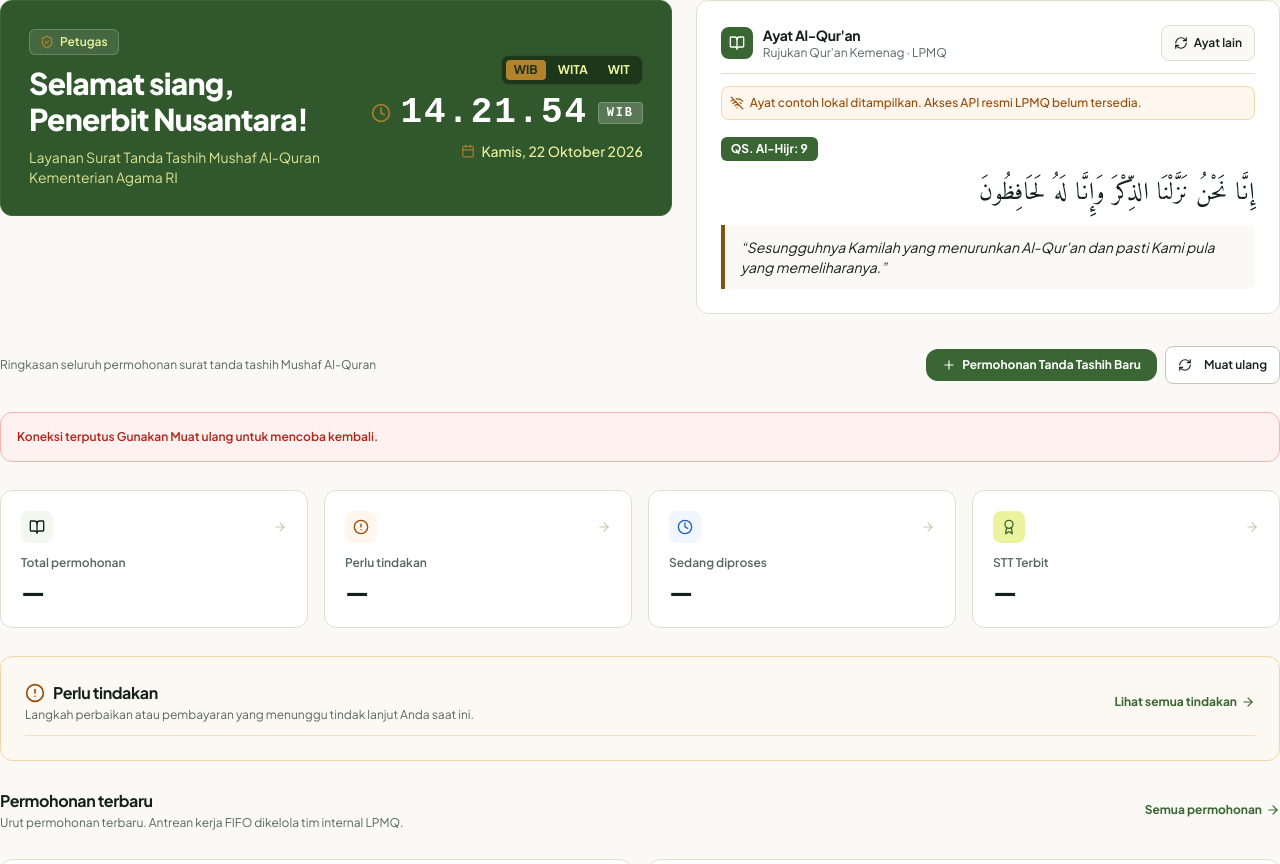
Publisher dashboard › shows a fetch failure without misleading zeros and retries
This screenshot has width=1280, height=864.
Check: the message "Koneksi terputus Gunakan Muat ulang untuk mencoba kembali." is shown, box left=0, top=412, right=1279, bottom=462
Check: the link "Total permohonan —" is shown, box left=0, top=490, right=308, bottom=628
Click the button "Muat ulang" at (1222, 365), box left=1165, top=346, right=1279, bottom=384
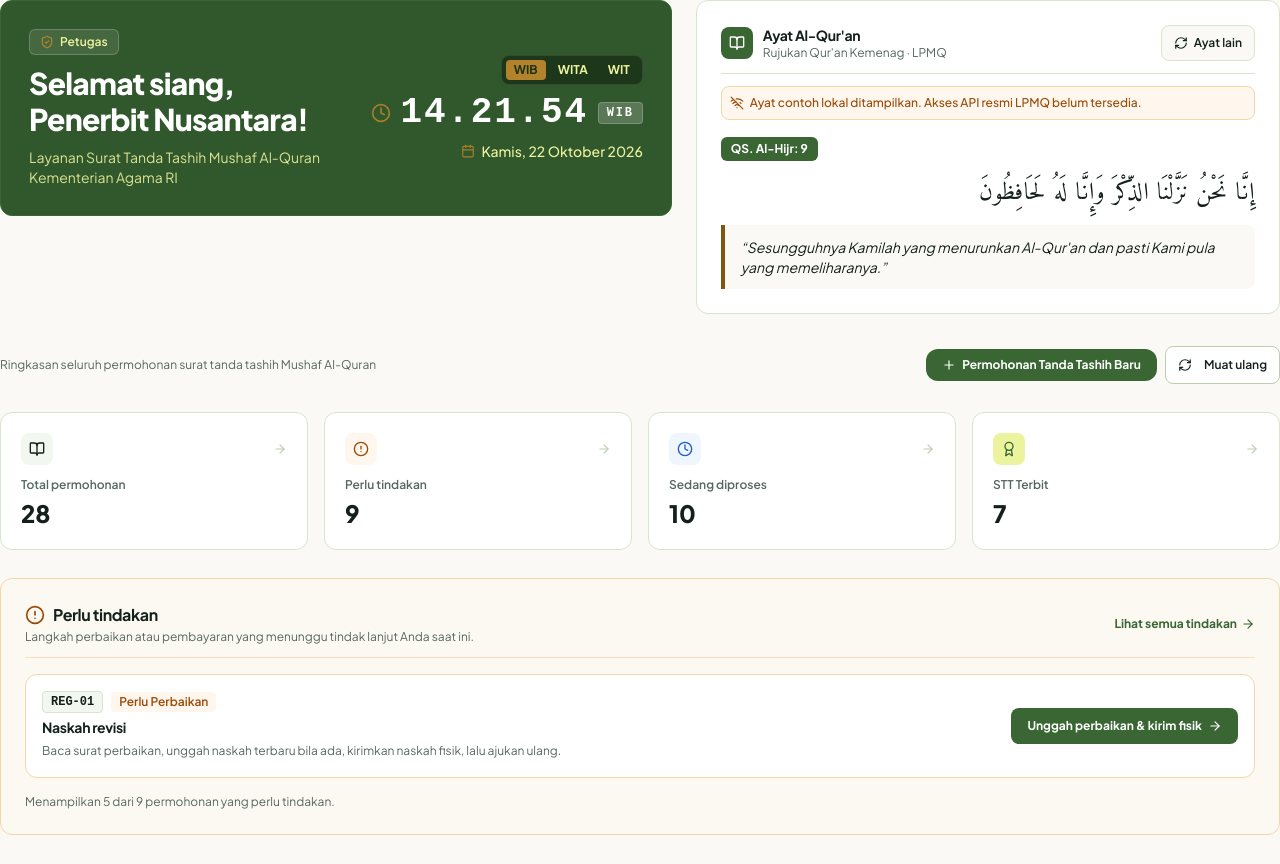
Check: the message "Koneksi terputus Gunakan Muat ulang untuk mencoba kembali." is gone
